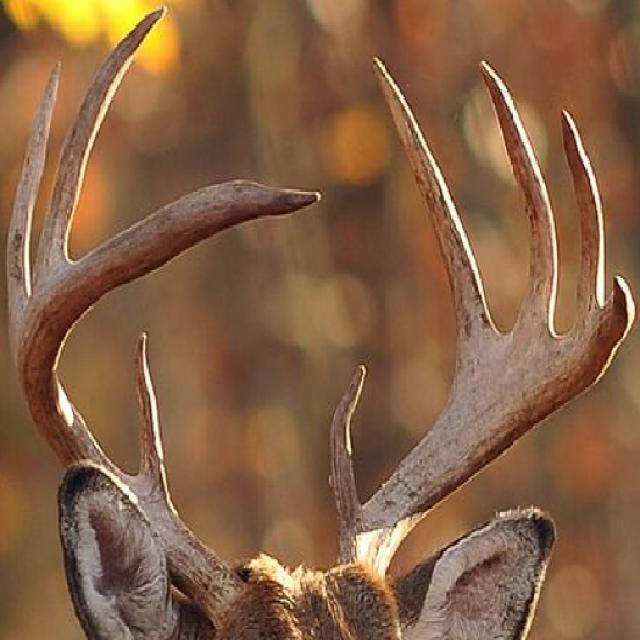L-F: (335, 275, 637, 578)
L-G1: (327, 363, 368, 528)
L-G2: (370, 52, 499, 351)
L-G3: (478, 57, 559, 334)
L-G4: (560, 108, 605, 315)
R-F: (15, 178, 323, 630)
R-G1: (133, 330, 167, 493)
R-G2: (6, 58, 62, 372)
R-G3: (32, 6, 167, 280)
